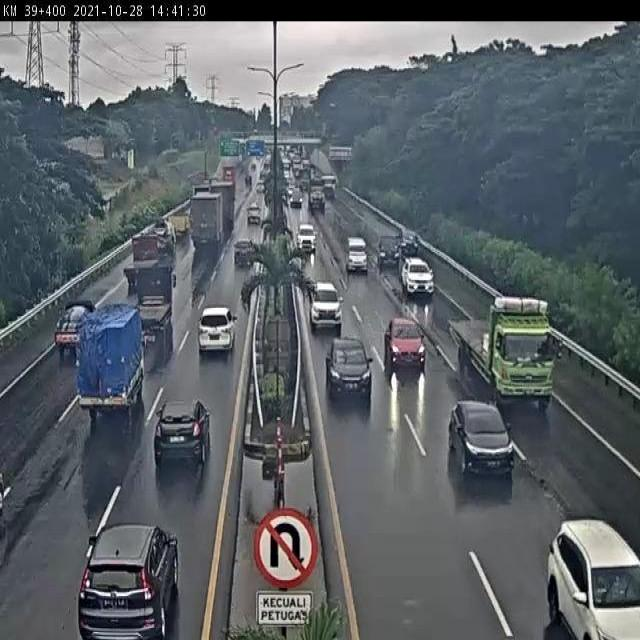car: (77, 518, 179, 640), (545, 521, 640, 640), (449, 399, 514, 473), (153, 397, 210, 467), (325, 338, 372, 402), (54, 299, 98, 356), (384, 319, 425, 373), (197, 307, 236, 353), (309, 281, 342, 332), (401, 257, 435, 295), (345, 236, 366, 269), (375, 233, 398, 263), (233, 237, 256, 267), (296, 224, 317, 253)
mid truck: (448, 291, 556, 405)
truck-m-: (76, 302, 145, 414), (129, 264, 177, 348), (123, 235, 159, 284), (149, 218, 176, 258)
